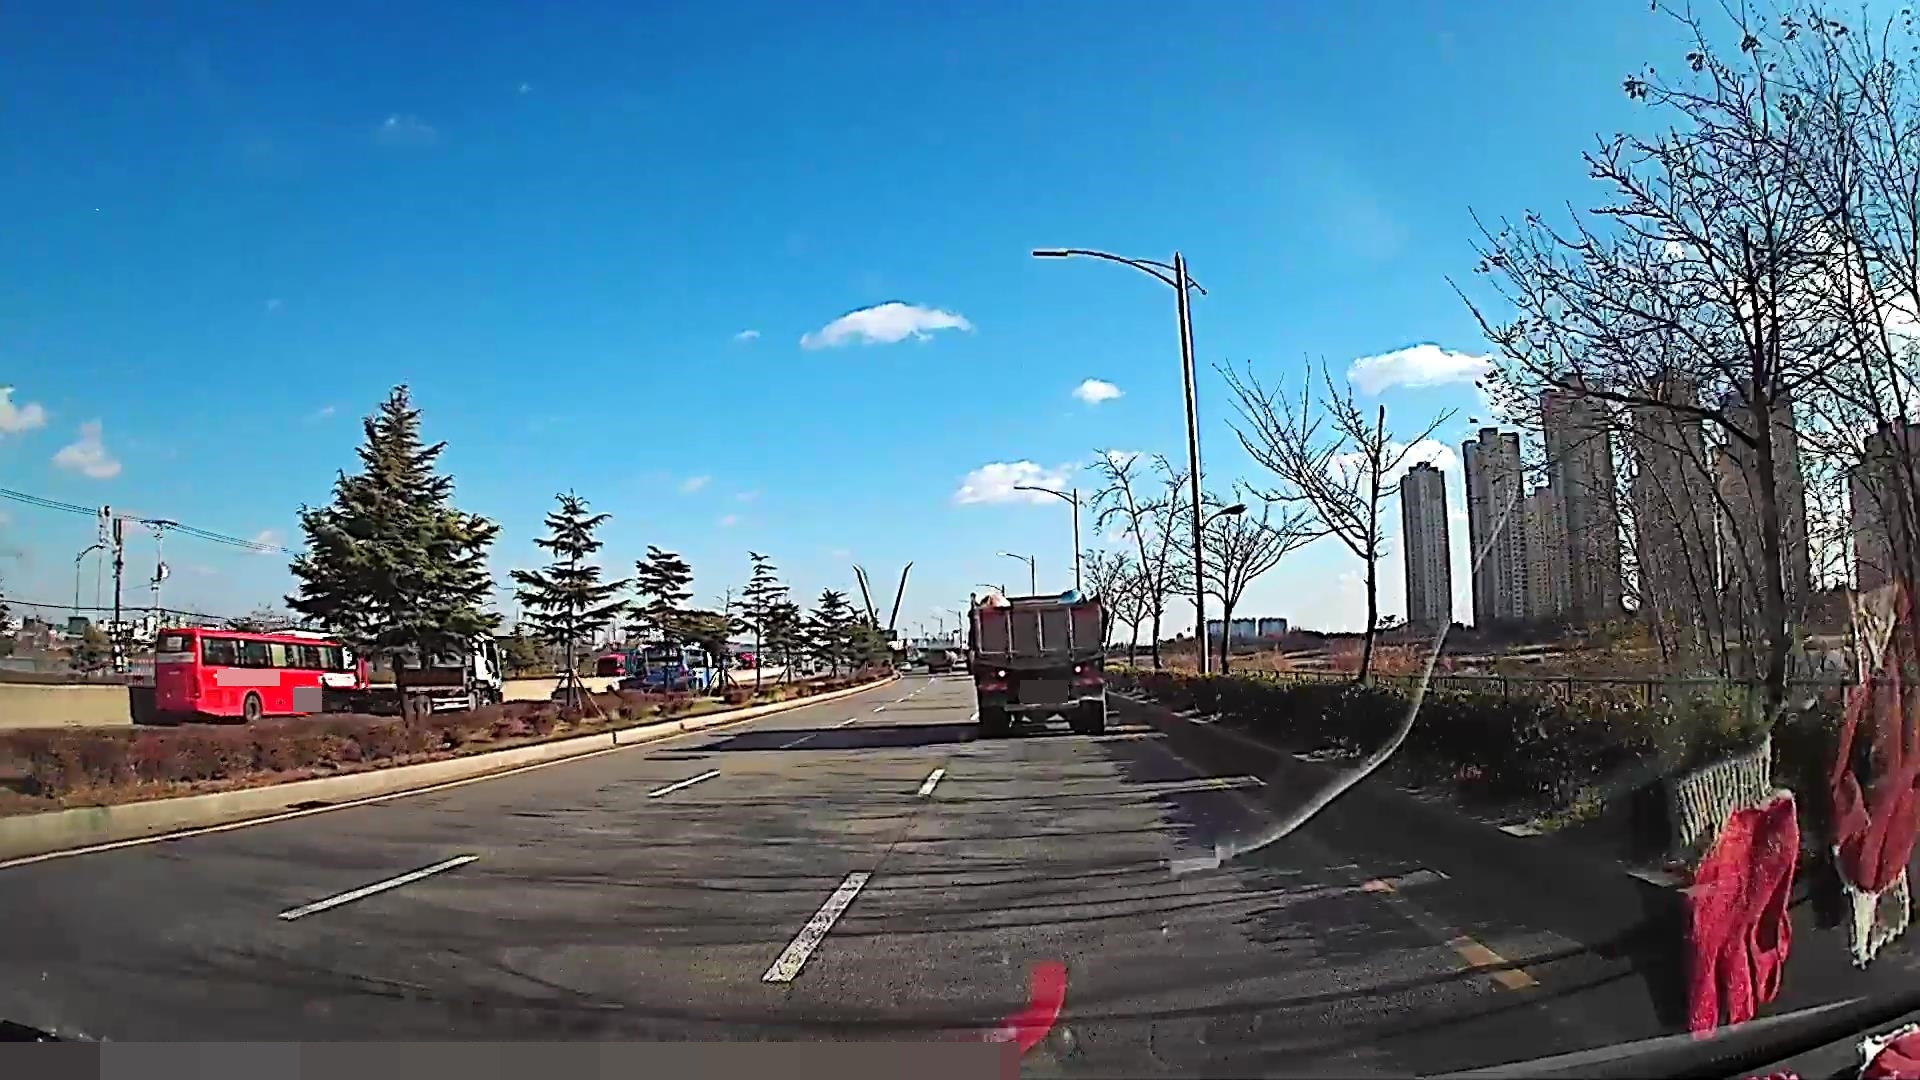불법차량: (967, 585, 1109, 738)
